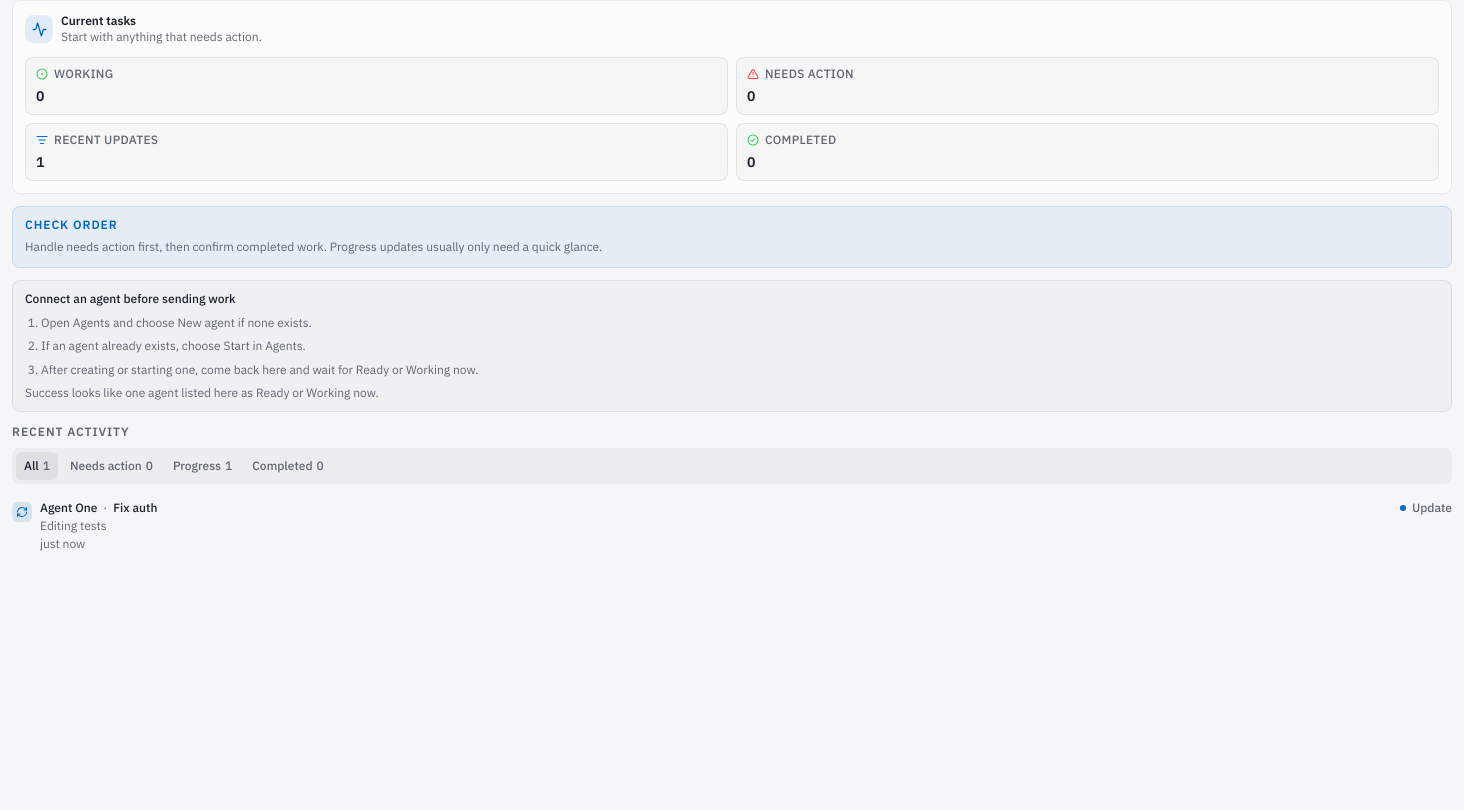
Test case: ActivityFeed › shows filtered empty state when a feed category has no items
Click the button with aria-label "show completed task updates, 0 matching updates". click: (288, 466)
box: [244, 452, 332, 480]
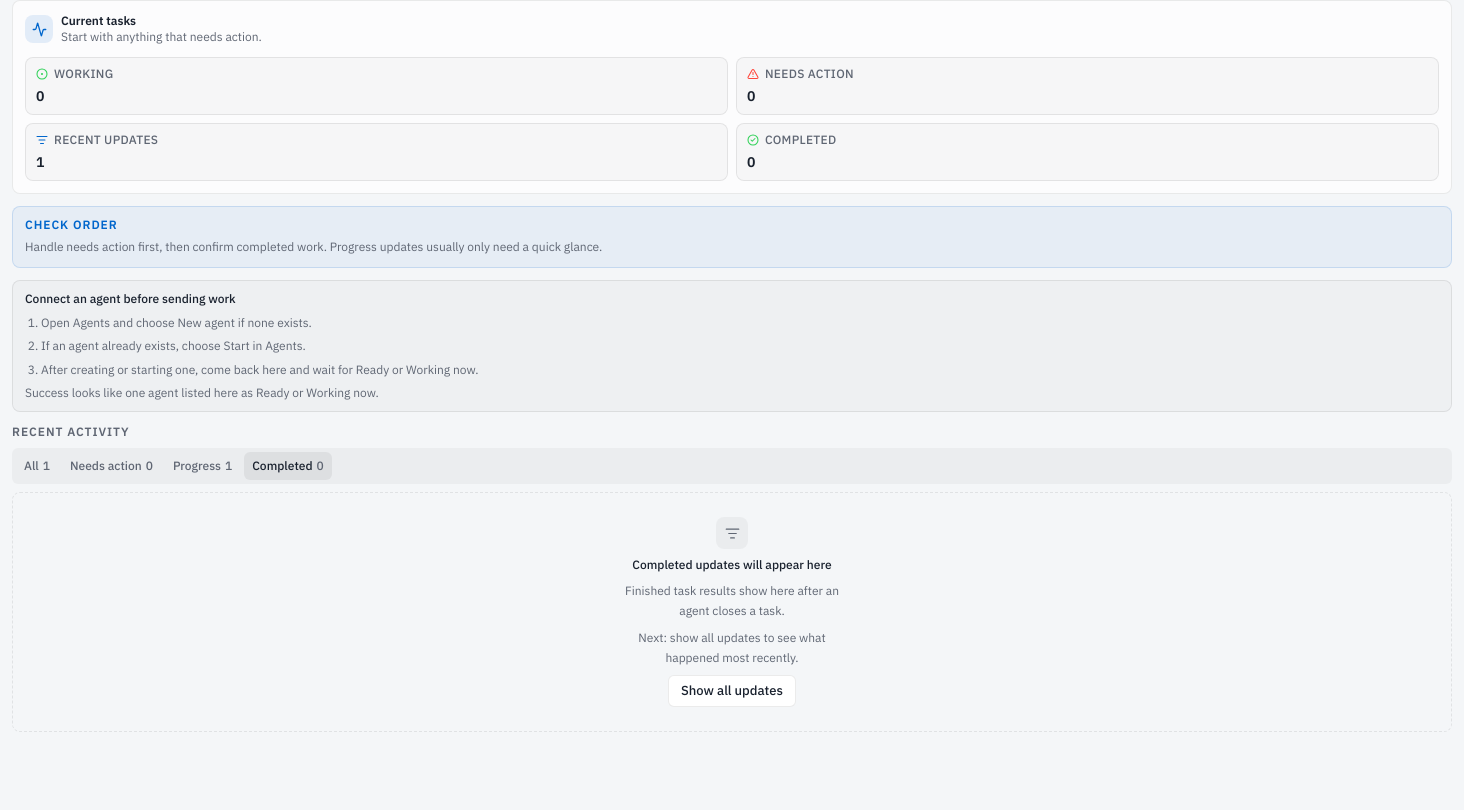
Result: the text "Completed updates will appear here" is shown at [632, 557, 832, 573]
Result: the text "Finished task results show here" is shown at [625, 583, 839, 618]
Result: the text "Next: show all updates to see what happened most recently." is shown at [622, 628, 842, 667]
Click the button "Show all updates". click: (732, 691)
box: [668, 675, 796, 707]
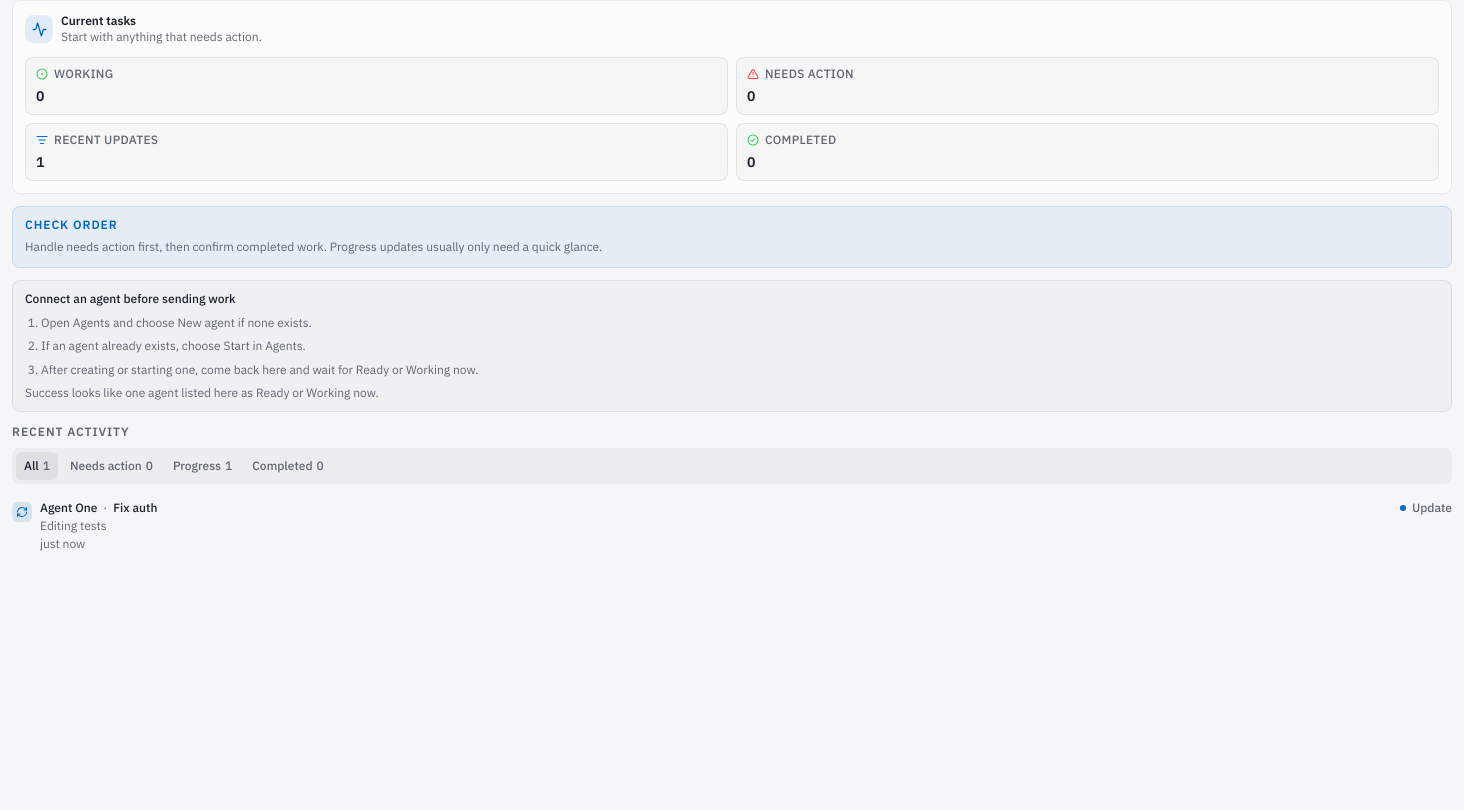
Result: the text "Fix auth" is shown at [113, 500, 157, 515]
